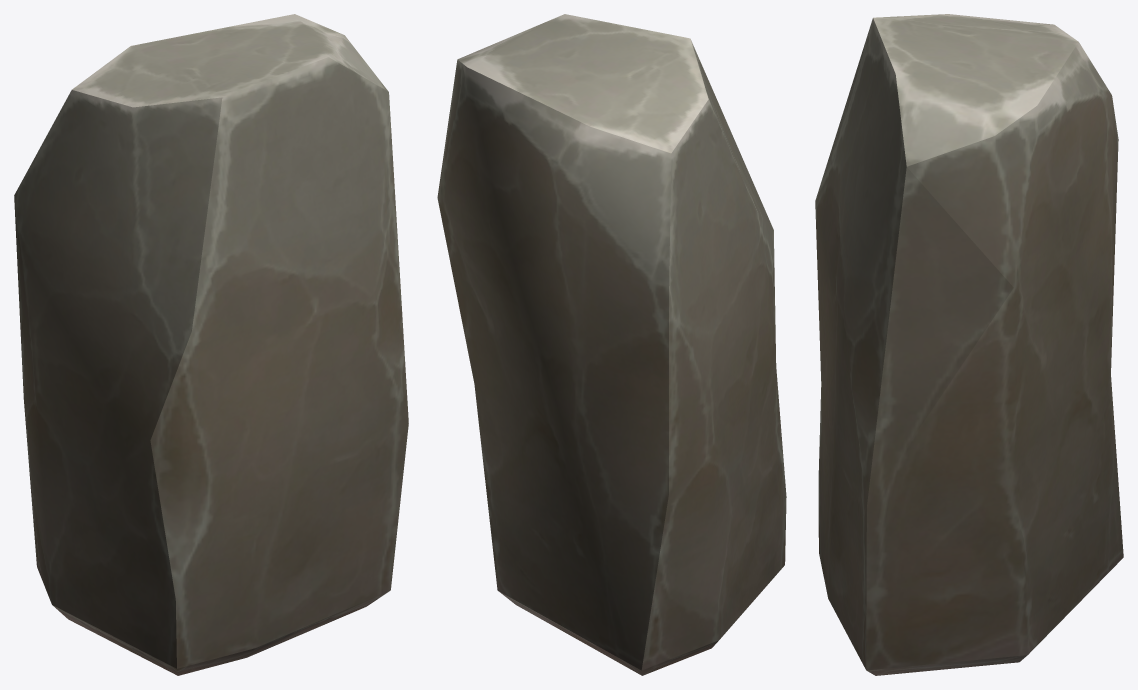
Rendered from sylized_01.obj.
3 views of the same model, side by side, from view 1: azimuth 30°, elevation 25°; view 2: azimuth 150°, elevation 25°; view 3: azimuth 270°, elevation 25° (orthographic). The views are drawn at different scales.
Parts seen in each view (by area): view 1: SM_Rocks_09; view 2: SM_Rocks_09; view 3: SM_Rocks_09.
Part boxes in pixels (x1,y1,x2,y2): SM_Rocks_09: [14, 14, 408, 675]; SM_Rocks_09: [437, 14, 786, 675]; SM_Rocks_09: [815, 14, 1123, 675].
Bounding box in the file's own units: 87.9 × 159 × 74.41.
